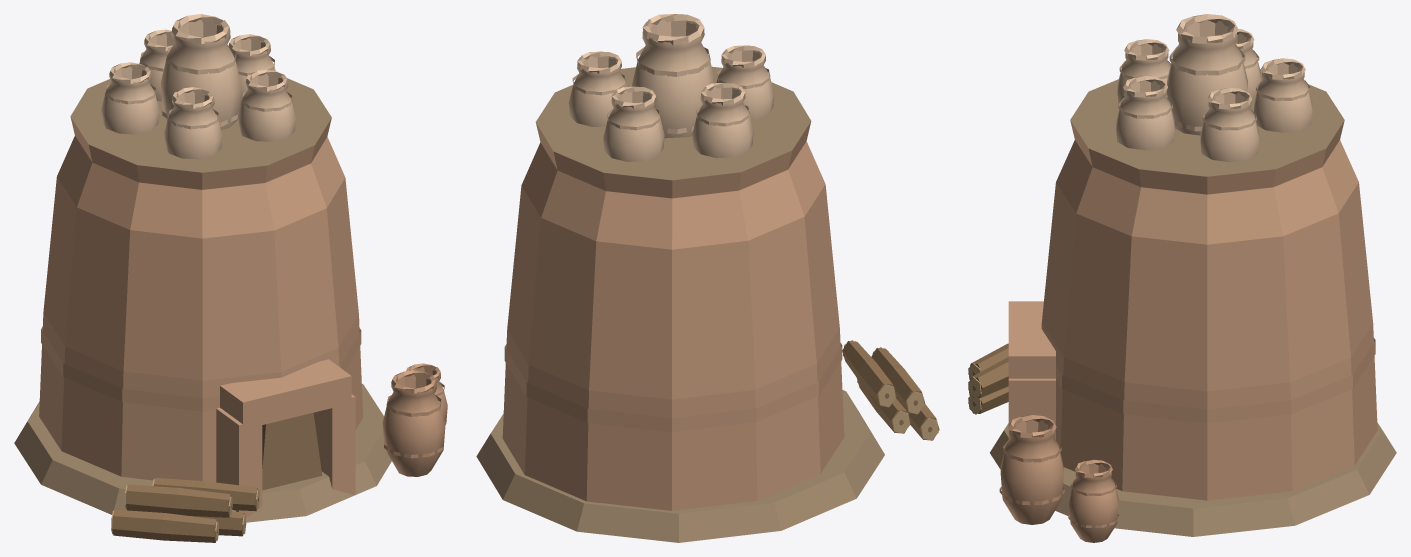
Rendered from building_kiln_half.glb.
3 renders of one model, left to right at view 1: azimuth 30°, elevation 25°; view 2: azimuth 150°, elevation 25°; view 3: azimuth 270°, elevation 25°, orthographic. The views are drawn at different scales.
Parts seen in each view (by area): view 1: building_kiln_half; view 2: building_kiln_half; view 3: building_kiln_half.
Boxes of the visible parts, x1,y1,x2,y2 form: building_kiln_half: (14,14,447,542); building_kiln_half: (476,14,939,542); building_kiln_half: (968,14,1396,542).
Size of the model in its own units: 1 by 1.1 by 1.
